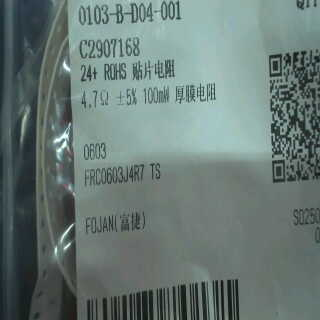4.7R: (78, 86, 114, 113)
